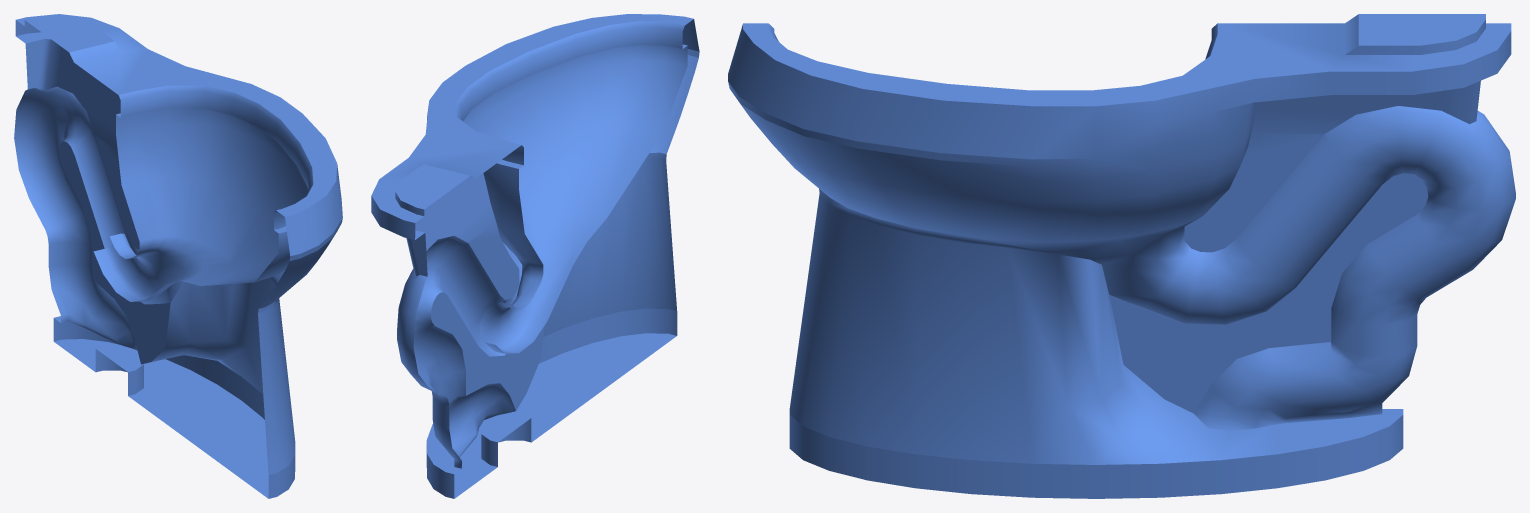
The model's file is original-14.obj.
3 renders of one model, left to right at view 1: azimuth 30°, elevation 25°; view 2: azimuth 150°, elevation 25°; view 3: azimuth 270°, elevation 25°, orthographic. The views are drawn at different scales.
Parts seen in each view (by area): view 1: Bowl2/Bowl12/mesh34/mesh34-geometry#mesh34-geometry; view 2: Bowl2/Bowl12/mesh34/mesh34-geometry#mesh34-geometry; view 3: Bowl2/Bowl12/mesh34/mesh34-geometry#mesh34-geometry.
Boxes of the visible parts, box(x1,y1,x2,y2) form: Bowl2/Bowl12/mesh34/mesh34-geometry#mesh34-geometry: box(14, 14, 342, 498); Bowl2/Bowl12/mesh34/mesh34-geometry#mesh34-geometry: box(371, 14, 699, 498); Bowl2/Bowl12/mesh34/mesh34-geometry#mesh34-geometry: box(728, 14, 1515, 498).
Bounding box in the file's own units: 0.342 × 0.7999 × 1.33.
